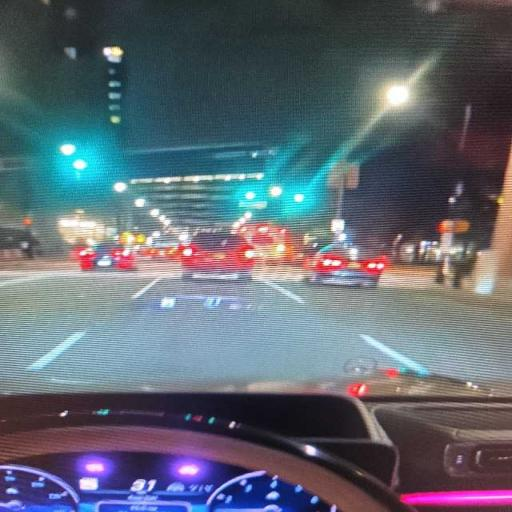car: (180, 233, 255, 279), (309, 244, 387, 287), (80, 244, 135, 270), (140, 235, 179, 258)
lane: (41, 279, 391, 388), (288, 285, 511, 379), (0, 273, 147, 391)
